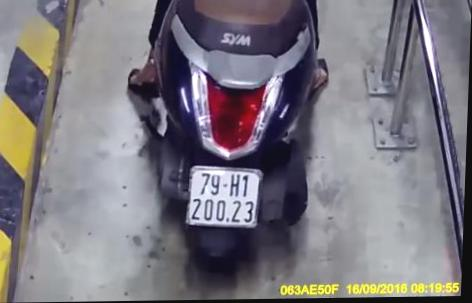License_Plate: (182, 162, 266, 232)
